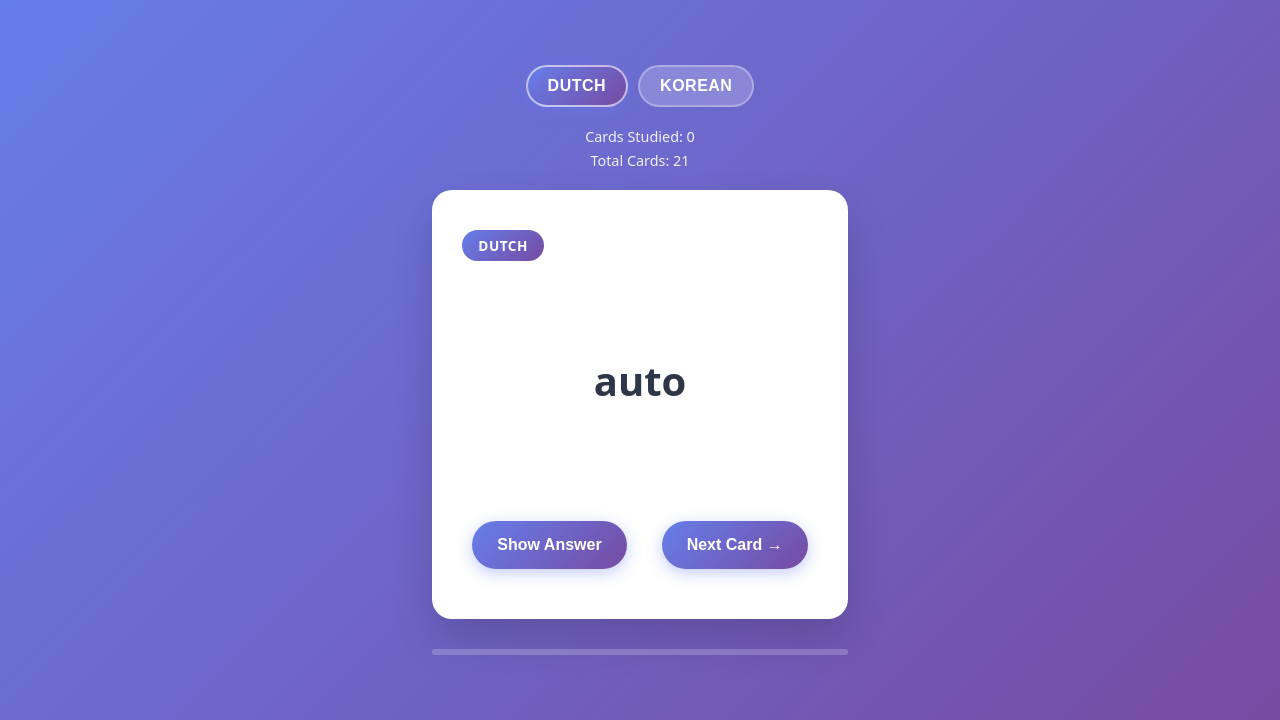
Flashcard App › Next Card Functionality › hides answer when getting new card
// Show answer
Click the button "Show Answer" at [549, 545], box [472,521,627,569]
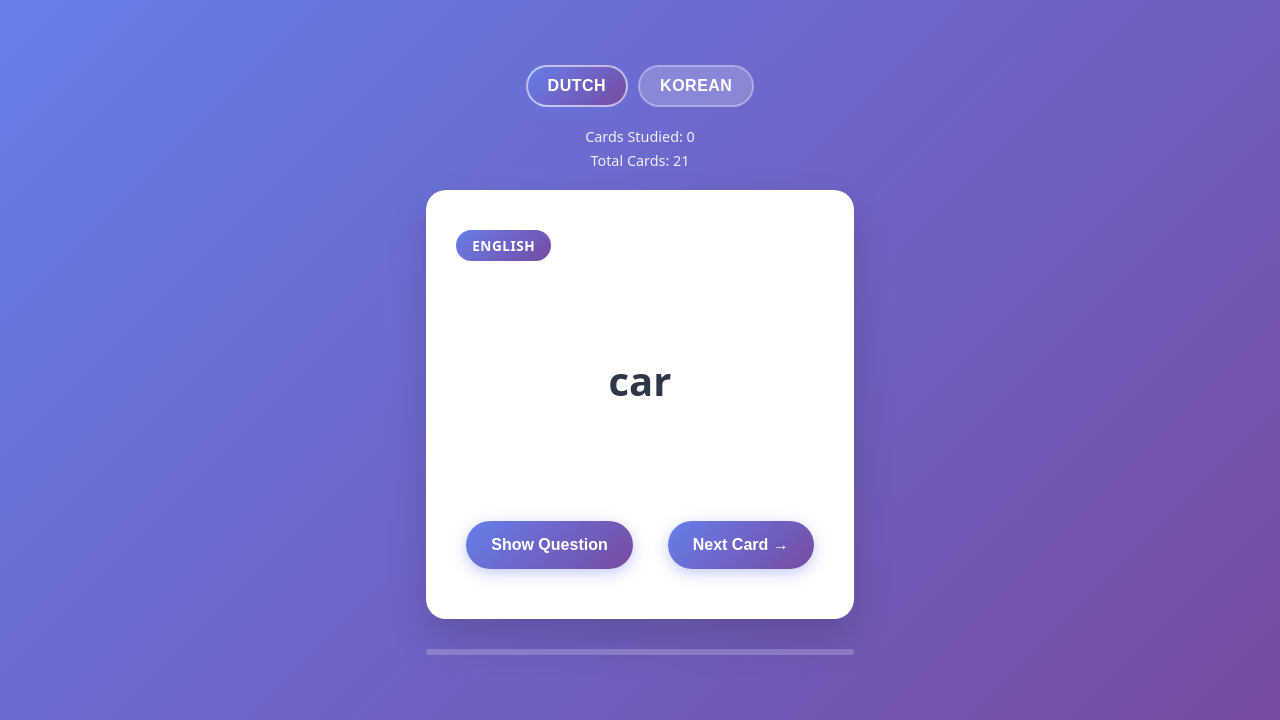
Result: the button "Show Question" is shown at [466,521,633,569]
// Get next card
Click the button "Next Card →" at [741, 545], box [668,521,814,569]
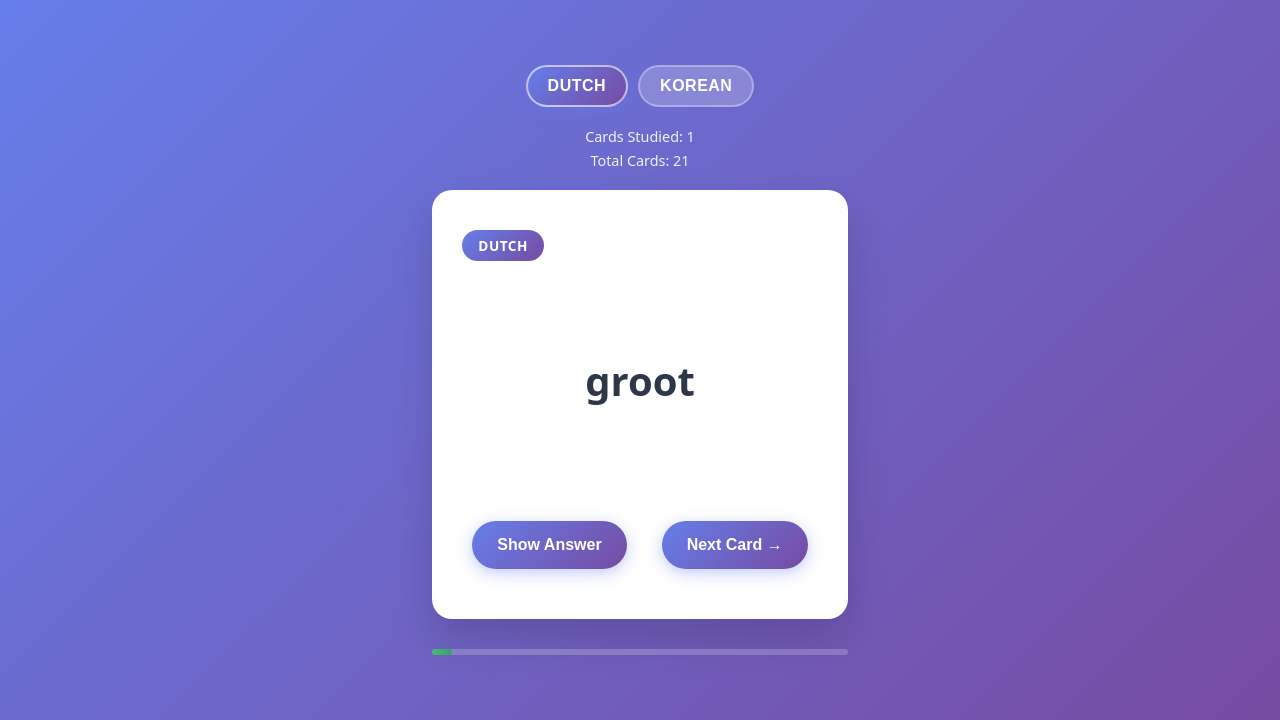
Result: the button "Show Answer" is shown at [472,521,627,569]
